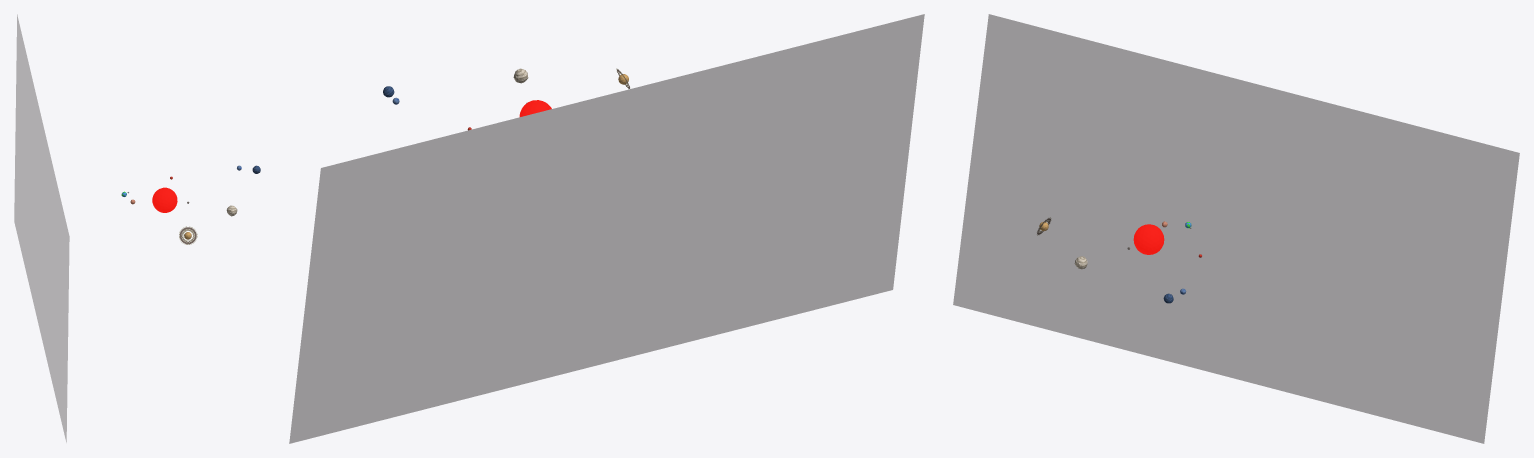
File: Space-transformed.glb
3 renders of one model, left to right at view 1: azimuth 30°, elevation 25°; view 2: azimuth 150°, elevation 25°; view 3: azimuth 270°, elevation 25°, orthographic. The views are drawn at different scales.
Visible parts, largest first — view 1: Space, Sun; view 2: Space; view 3: Space, Sun.
Boxes of the visible parts, box(x1,y1,x2,y2) form: Space: box(14, 14, 69, 442); Sun: box(152, 187, 177, 212); Space: box(289, 14, 924, 443); Space: box(953, 14, 1519, 443); Sun: box(1133, 224, 1164, 254).
Size of the model in its own units: 138 by 93.47 by 174.
5 materials, 5 textured.
